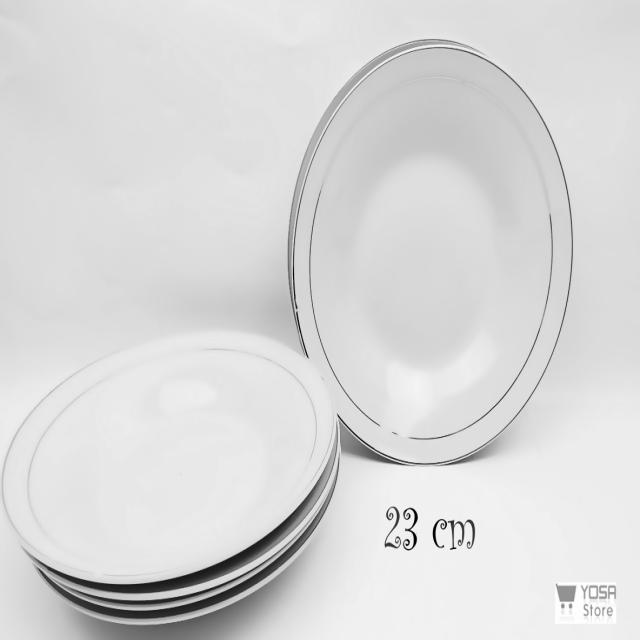dish: (258, 23, 591, 484)
